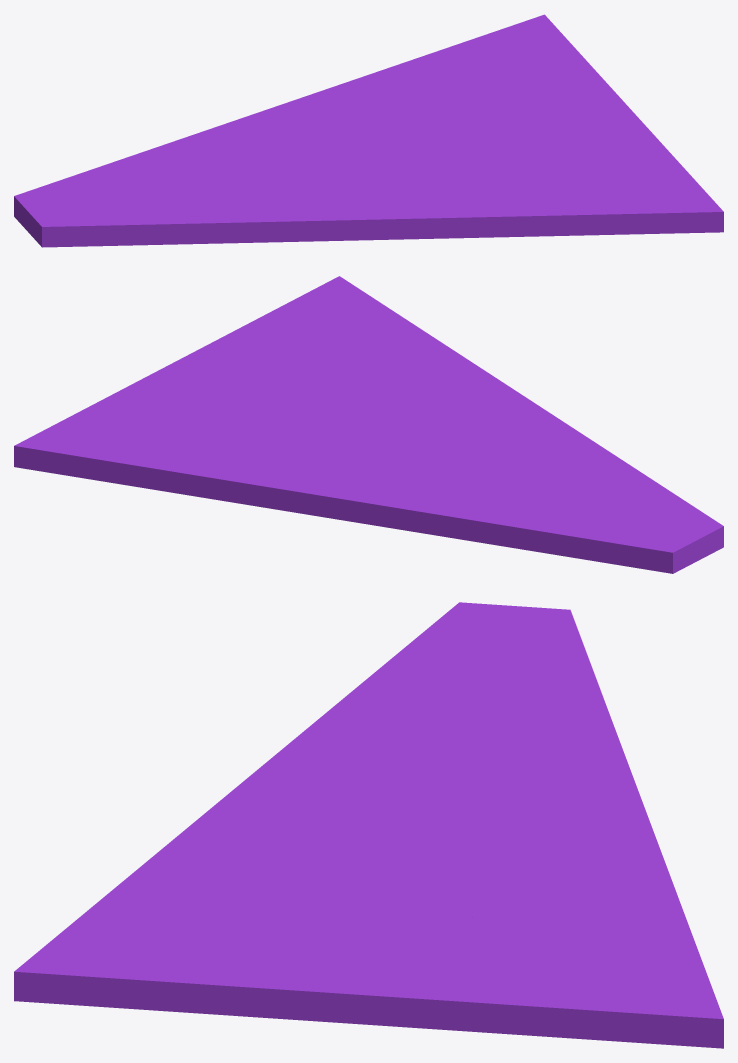
The model's file is StairsStep_15_chunks.fbx.
3 renders of one model, top to bottom at view 1: azimuth 30°, elevation 25°; view 2: azimuth 150°, elevation 25°; view 3: azimuth 270°, elevation 25°, orthographic. The views are drawn at different scales.
Visible parts, largest first — view 1: StairsStep_15_2, StairsStep_15_0, StairsStep_15_1, StairsStep_15_3; view 2: StairsStep_15_2, StairsStep_15_1, StairsStep_15_0, StairsStep_15_3; view 3: StairsStep_15_2, StairsStep_15_1, StairsStep_15_0, StairsStep_15_3.
Part boxes in pixels (x1,y1,x2,y2): StairsStep_15_2: (330,79,723,240); StairsStep_15_0: (14,156,360,247); StairsStep_15_1: (222,14,603,156); StairsStep_15_3: (132,125,342,170); StairsStep_15_2: (121,276,549,448); StairsStep_15_1: (14,390,450,537); StairsStep_15_0: (457,413,723,573); StairsStep_15_3: (414,446,526,541); StairsStep_15_2: (14,769,489,1031); StairsStep_15_1: (450,770,723,1048); StairsStep_15_0: (258,602,604,793); StairsStep_15_3: (417,700,630,810).
Bounding box in the file's own units: 545 × 17.94 × 392.
